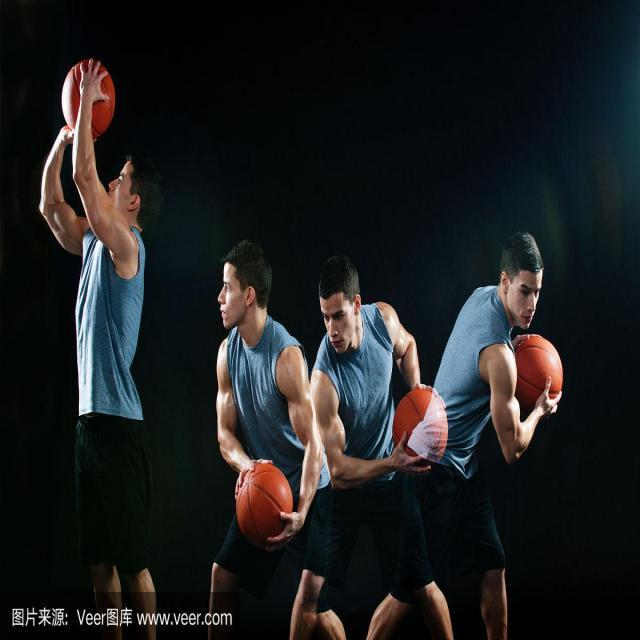rim: (235, 463, 292, 543), (396, 386, 448, 468), (63, 61, 116, 140), (516, 336, 562, 409)
